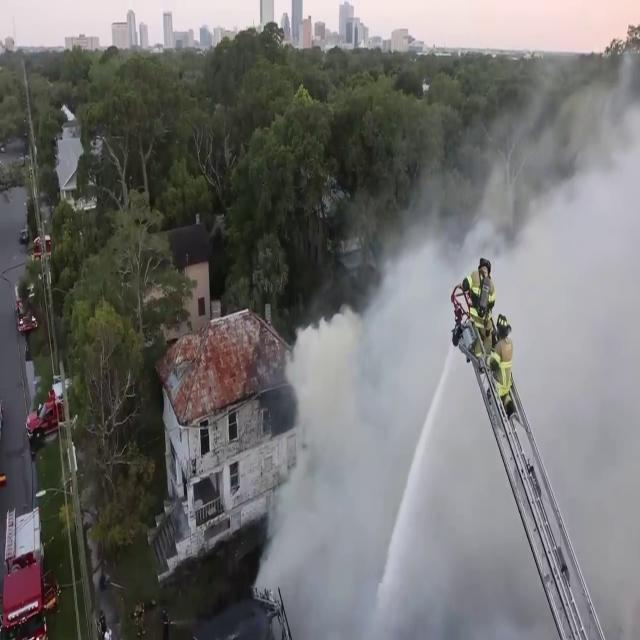Smoke: (298, 332, 472, 640)
